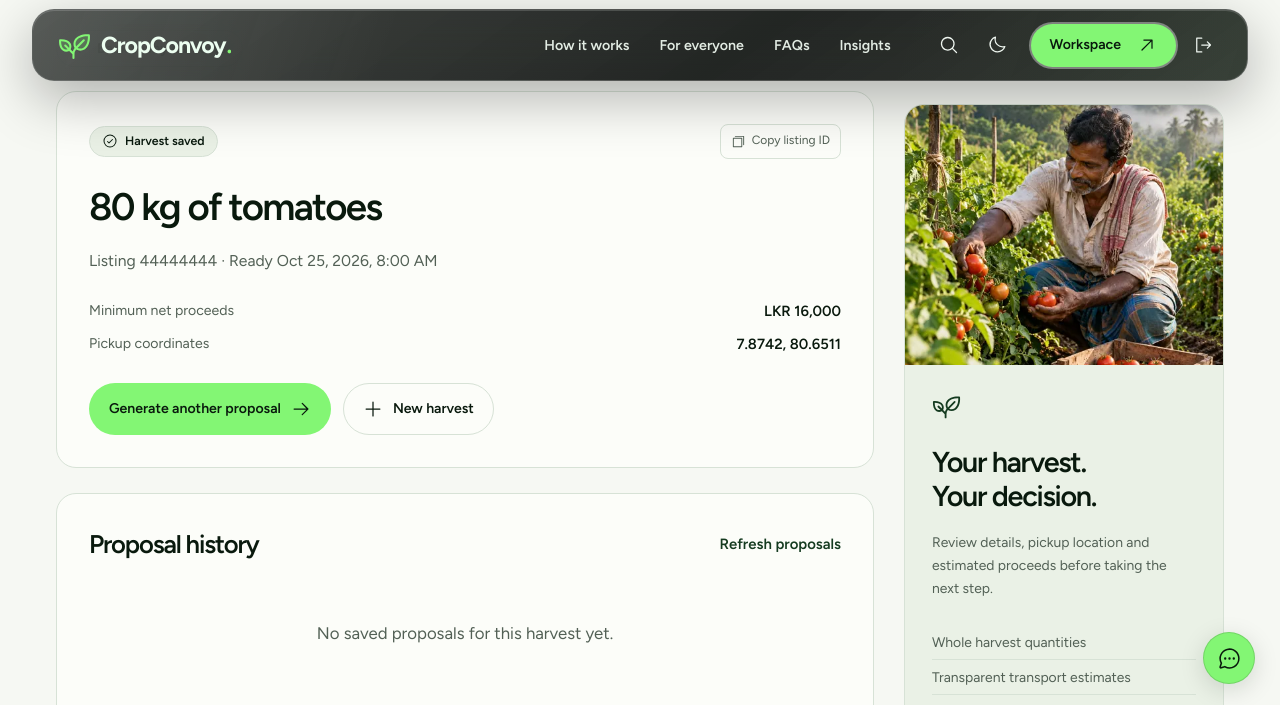
Test case: generation with no proposal clears the previous plan URL and explains fallback
(page scrolled)
Click the button "Generate another proposal" at (210, 409), box [89,383,331,435]
(page scrolled)
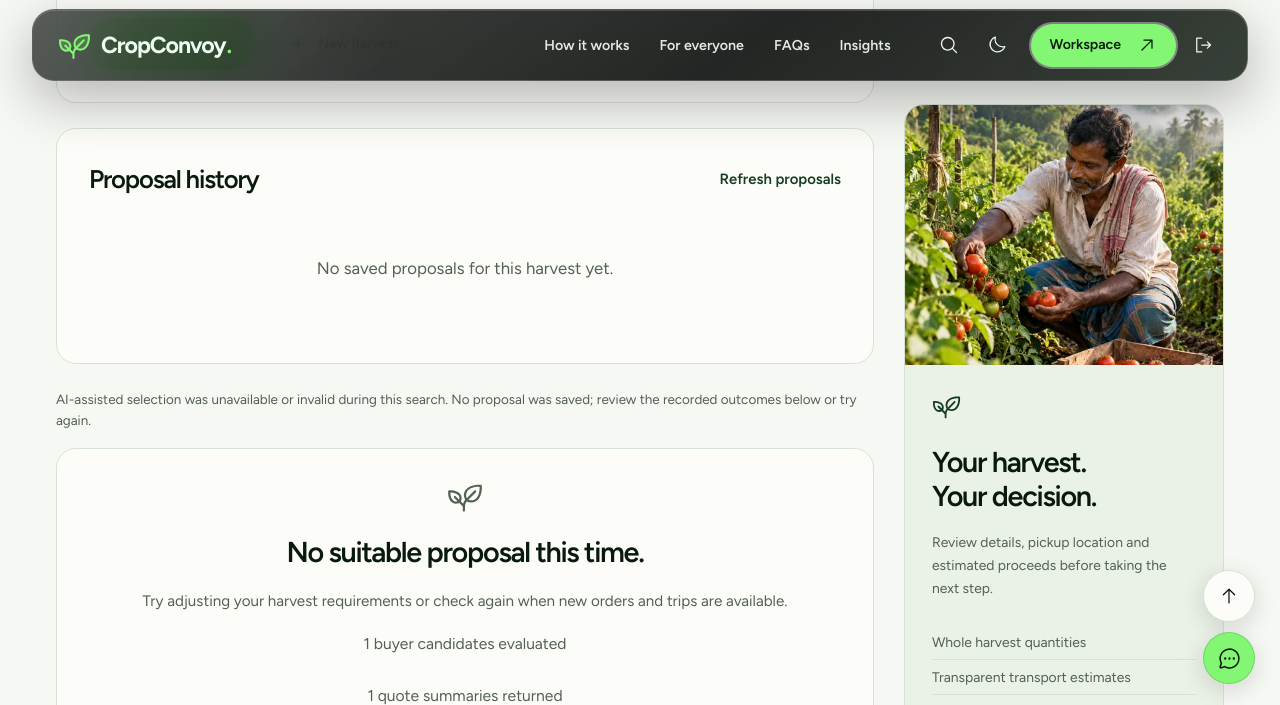
expect the heading "No suitable proposal this time." is shown: met, box [286,535,644,569]
expect the text "AI-assisted selection was unavailable or invalid during this search" is shown: met, box [56,391,856,428]
